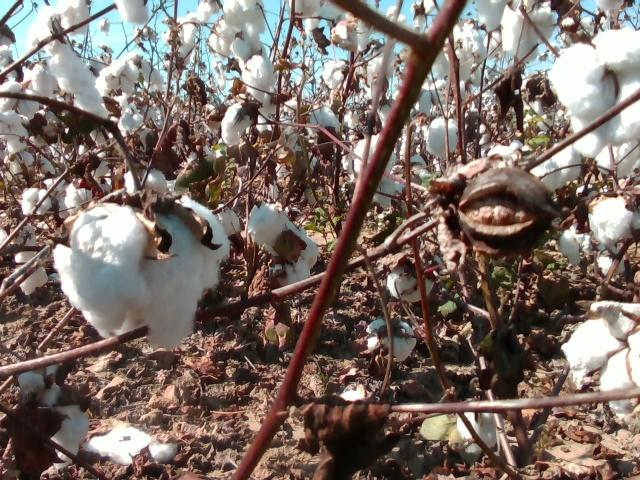cotton_ready: (54, 192, 233, 352), (549, 29, 640, 147), (562, 301, 640, 429), (26, 0, 109, 120), (249, 206, 319, 291), (26, 404, 90, 470), (571, 115, 640, 175), (85, 423, 178, 466), (352, 131, 398, 209), (501, 0, 556, 65), (589, 187, 640, 245), (207, 13, 266, 59), (12, 226, 49, 296), (530, 142, 579, 191), (366, 320, 418, 362), (238, 48, 277, 100), (18, 363, 62, 407), (59, 180, 108, 219), (163, 13, 199, 64), (444, 16, 486, 59), (388, 266, 435, 303), (558, 220, 594, 265), (222, 99, 255, 146), (129, 53, 166, 94), (222, 0, 268, 32), (521, 77, 558, 116), (95, 59, 135, 95), (23, 57, 59, 96), (425, 116, 460, 155), (0, 82, 39, 116), (354, 55, 394, 88), (0, 111, 29, 154), (436, 48, 473, 80), (418, 77, 448, 116), (124, 169, 168, 194), (253, 91, 279, 132), (488, 138, 535, 160), (117, 101, 145, 137), (476, 0, 508, 31), (308, 108, 342, 133), (22, 189, 51, 216), (333, 22, 359, 52), (116, 0, 150, 22), (322, 61, 347, 89), (378, 99, 399, 130), (289, 0, 319, 16)
